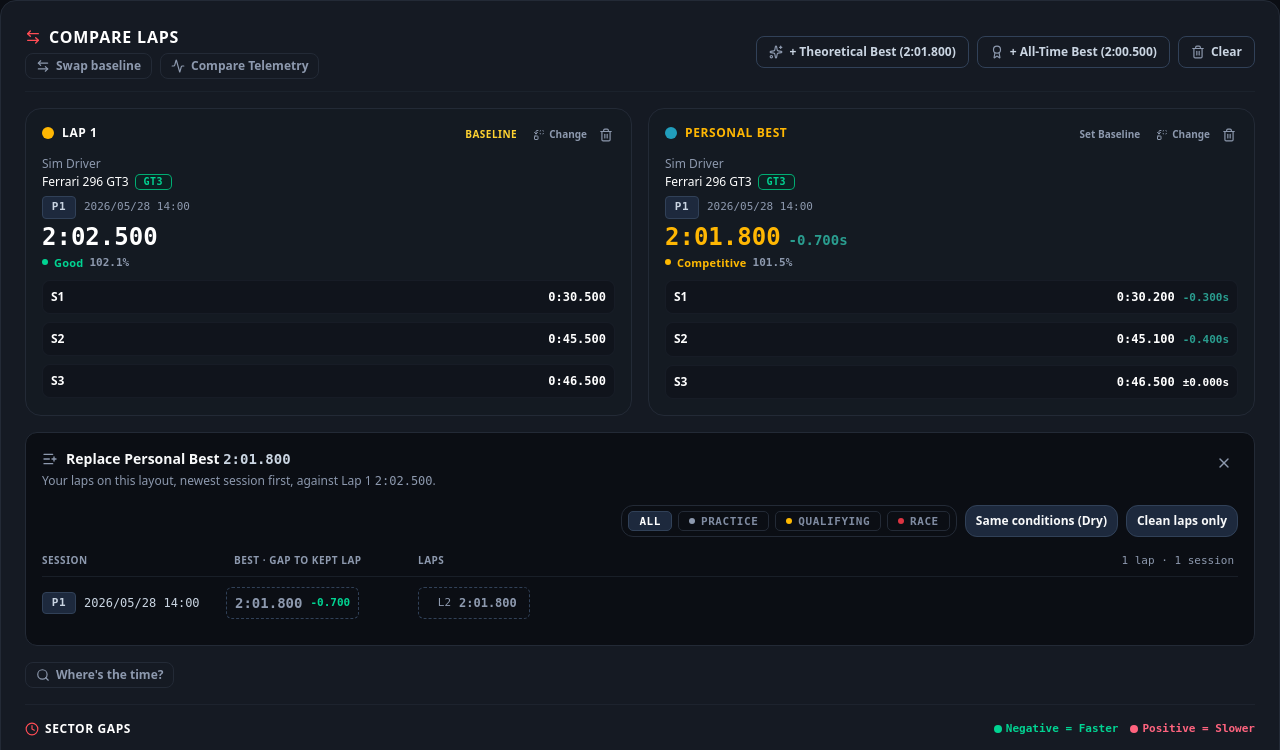
Test: CompareLaps component › loads both the requested session lap and personal best, and provides quick-add button when removed
This screenshot has width=1280, height=750.
Expected: the heading "2:02.500" is shown, [42, 220, 158, 252]
Expected: the heading "2:01.800" is shown, [665, 220, 781, 252]
Click the 2nd button titled "Remove from comparison" at (1229, 134), box [1220, 126, 1238, 144]
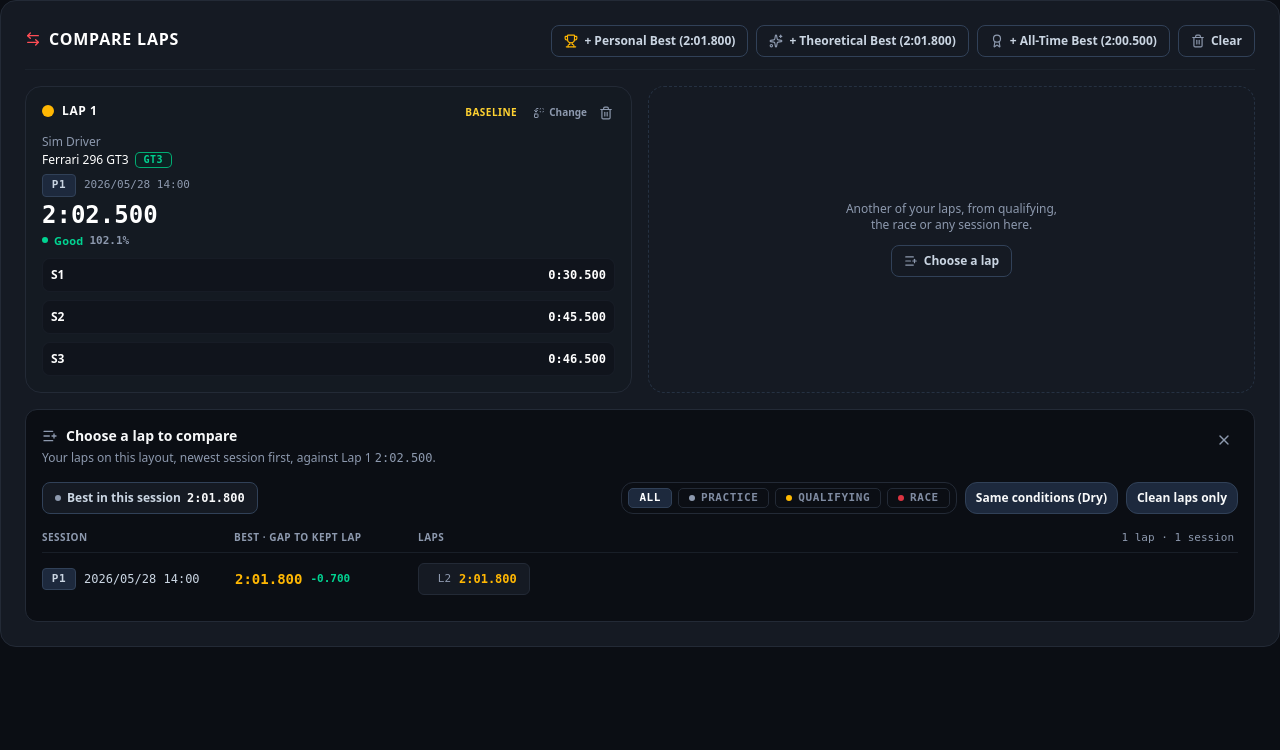
Result: the number of buttons titled "Remove from comparison" is 1 at [597, 104, 615, 122]
Result: the button "+ Personal Best (2:01.800)" is shown
Click the button "+ Personal Best (2:01.800)" at (650, 41), box [551, 25, 748, 57]
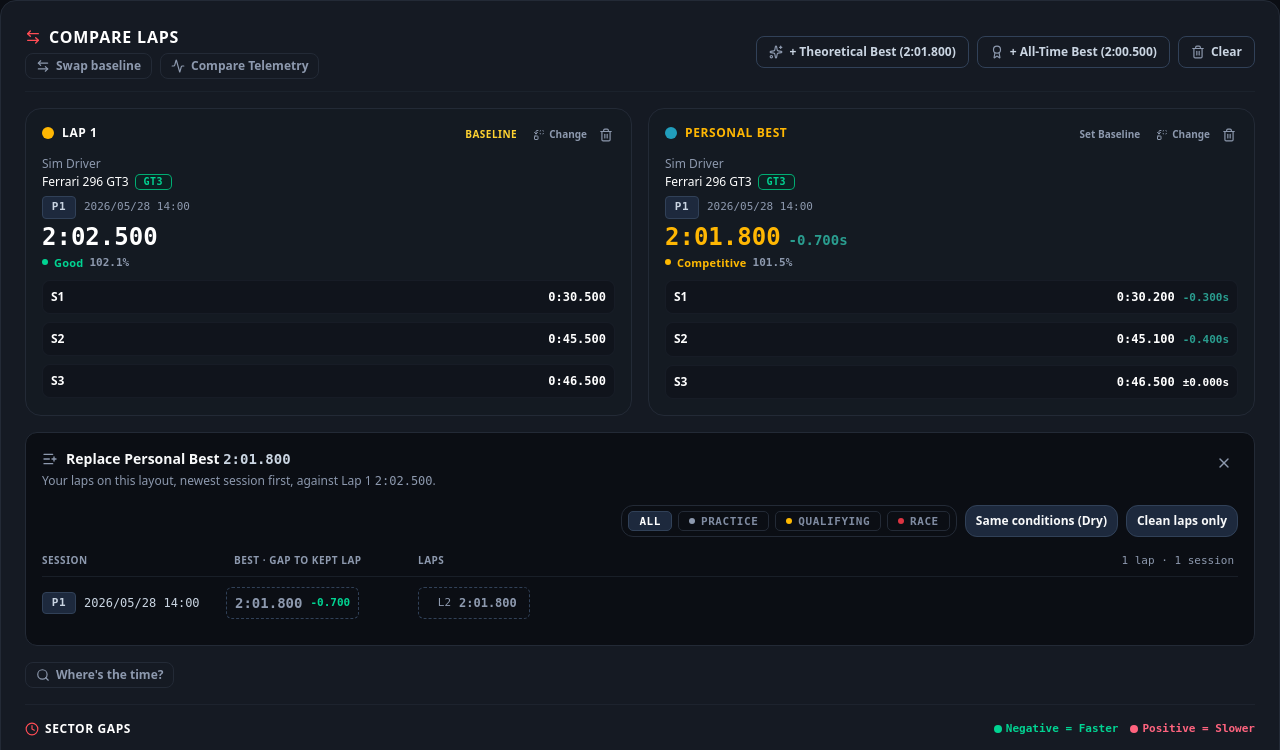
Result: the number of buttons titled "Remove from comparison" is 2 at [597, 126, 615, 144]; [1220, 126, 1238, 144]
